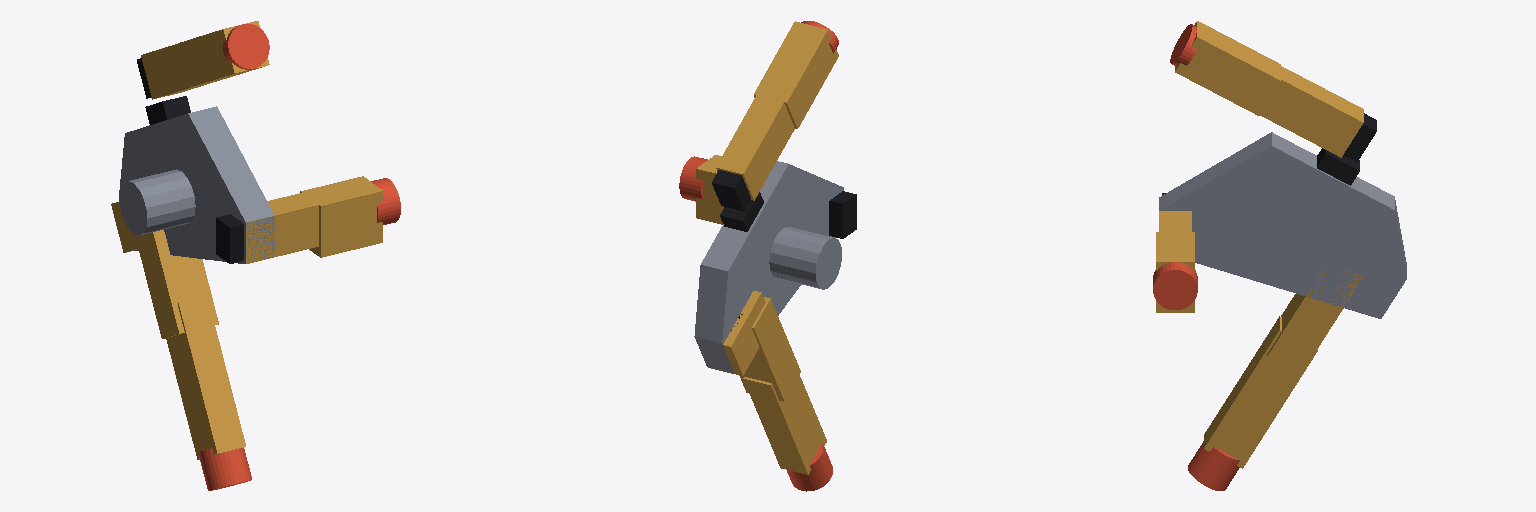
URDF robot description (g0072_c09):
<robot name="g0072_c09">
  <link name="palm">
    <visual name="palm_palm1">
      <origin xyz="0 0 0" rpy="0 0 0" />
      <geometry>
        <mesh filename="palm_palm1.obj" />
      </geometry>
      <material name="palm_palm1_mat">
        <color rgba="0.55 0.57 0.62 1" />
      </material>
    </visual>
    <collision>
      <origin xyz="0 0 0" rpy="0 0 0" />
      <geometry>
        <mesh filename="palm_palm1.obj" />
      </geometry>
    </collision>
    <visual name="palm_mount2">
      <origin xyz="0 0 0" rpy="0 0 0" />
      <geometry>
        <mesh filename="palm_mount2.obj" />
      </geometry>
      <material name="palm_mount2_mat">
        <color rgba="0.55 0.57 0.62 1" />
      </material>
    </visual>
    <collision>
      <origin xyz="0 0 0" rpy="0 0 0" />
      <geometry>
        <mesh filename="palm_mount2.obj" />
      </geometry>
    </collision>
    <visual name="palm_hinge3">
      <origin xyz="0 0.034910254 0.0404663337" rpy="-1.57079633 0.523598776 1.57079633" />
      <geometry>
        <box size="0.029 0.034 0.02" />
      </geometry>
      <material name="palm_hinge3_mat">
        <color rgba="0.15 0.15 0.17 1" />
      </material>
    </visual>
    <collision>
      <origin xyz="0 0.034910254 0.0404663337" rpy="-1.57079633 0.523598776 1.57079633" />
      <geometry>
        <box size="0.029 0.034 0.02" />
      </geometry>
    </collision>
    <visual name="palm_motor4">
      <origin xyz="-0.007 -0.08 4.5924255e-19" rpy="1.57079633 -1.57079633 0" />
      <geometry>
        <box size="0.029 0.034 0.02" />
      </geometry>
      <material name="palm_motor4_mat">
        <color rgba="0.15 0.15 0.17 1" />
      </material>
    </visual>
    <collision>
      <origin xyz="-0.007 -0.08 4.5924255e-19" rpy="1.57079633 -1.57079633 0" />
      <geometry>
        <box size="0.029 0.034 0.02" />
      </geometry>
    </collision>
    <visual name="palm_motor5">
      <origin xyz="-0.0045 0.0666996732 -0.0467548095" rpy="1.57079633 -0.523598776 -1.57079633" />
      <geometry>
        <box size="0.029 0.034 0.02" />
      </geometry>
      <material name="palm_motor5_mat">
        <color rgba="0.15 0.15 0.17 1" />
      </material>
    </visual>
    <collision>
      <origin xyz="-0.0045 0.0666996732 -0.0467548095" rpy="1.57079633 -0.523598776 -1.57079633" />
      <geometry>
        <box size="0.029 0.034 0.02" />
      </geometry>
    </collision>
    <inertial>
      <origin xyz="3.75973182e-19 0.00513127273 -0.00154413835" rpy="1.57079633 0.307406975 1.57079633" />
      <mass value="0.657098134" />
      <inertia ixx="0.000527012698" ixy="0" ixz="0" iyy="0.00151421306" iyz="0" izz="0.00197814433" />
    </inertial>
  </link>
  <link name="palm0">
    <visual name="palm0_palm1">
      <origin xyz="0 0 0" rpy="0 0 0" />
      <geometry>
        <mesh filename="palm0_palm1.obj" />
      </geometry>
      <material name="palm0_palm1_mat">
        <color rgba="0.55 0.57 0.62 1" />
      </material>
    </visual>
    <collision>
      <origin xyz="0 0 0" rpy="0 0 0" />
      <geometry>
        <mesh filename="palm0_palm1.obj" />
      </geometry>
    </collision>
    <visual name="palm0_motor2">
      <origin xyz="0 0.00783493649 0.0292884758" rpy="-1.57079633 -1.04719755 1.57079633" />
      <geometry>
        <box size="0.029 0.034 0.02" />
      </geometry>
      <material name="palm0_motor2_mat">
        <color rgba="0.15 0.15 0.17 1" />
      </material>
    </visual>
    <collision>
      <origin xyz="0 0.00783493649 0.0292884758" rpy="-1.57079633 -1.04719755 1.57079633" />
      <geometry>
        <box size="0.029 0.034 0.02" />
      </geometry>
    </collision>
    <inertial>
      <origin xyz="0 0.00730473992 0.0213286762" rpy="-1.57079633 0.592343675 1.57079633" />
      <mass value="0.11436556" />
      <inertia ixx="2.07719317e-05" ixy="0" ixz="0" iyy="5.43023684e-05" iyz="0" izz="6.40952064e-05" />
    </inertial>
  </link>
  <link name="f0_link0">
    <visual name="f0_link0_link1">
      <origin xyz="0.02875 0 0" rpy="0 -3.00807789e-49 0" />
      <geometry>
        <box size="0.0815 0.033 0.024" />
      </geometry>
      <material name="f0_link0_link1_mat">
        <color rgba="0.80 0.62 0.30 1" />
      </material>
    </visual>
    <collision>
      <origin xyz="0.02875 0 0" rpy="0 -3.00807789e-49 0" />
      <geometry>
        <box size="0.0815 0.033 0.024" />
      </geometry>
    </collision>
    <inertial>
      <origin xyz="0.02875 0 0" rpy="0 0 0" />
      <mass value="0.112959" />
      <inertia ixx="1.56730613e-05" ixy="0" ixz="0" iyy="6.79471918e-05" iyz="0" izz="7.27761891e-05" />
    </inertial>
  </link>
  <link name="f0_link1">
    <visual name="f0_link1_link1">
      <origin xyz="0.014 -0.004 0" rpy="0 -3.00807789e-49 0" />
      <geometry>
        <box size="0.052 0.041 0.029" />
      </geometry>
      <material name="f0_link1_link1_mat">
        <color rgba="0.80 0.62 0.30 1" />
      </material>
    </visual>
    <collision>
      <origin xyz="0.014 -0.004 0" rpy="0 -3.00807789e-49 0" />
      <geometry>
        <box size="0.052 0.041 0.029" />
      </geometry>
    </collision>
    <inertial>
      <origin xyz="0.014 -0.004 0" rpy="0 0 0" />
      <mass value="0.108199" />
      <inertia ixx="2.27398232e-05" ixy="0" ixz="0" iyy="3.19637879e-05" iyz="0" izz="3.95377179e-05" />
    </inertial>
  </link>
  <link name="f0_link2">
    <visual name="f0_link2_link1">
      <origin xyz="0.014 -1.54074396e-33 0" rpy="-1.57079633 -0 -1.57079633" />
      <geometry>
        <cylinder radius="0.0165" length="0.019" />
      </geometry>
      <material name="f0_link2_link1_mat">
        <color rgba="0.85 0.35 0.25 1" />
      </material>
    </visual>
    <collision>
      <origin xyz="0.014 -1.54074396e-33 0" rpy="-1.57079633 -0 -1.57079633" />
      <geometry>
        <cylinder radius="0.0165" length="0.019" />
      </geometry>
    </collision>
    <inertial>
      <origin xyz="0.014 0 0" rpy="0 0 0" />
      <mass value="0.0613676745" />
      <inertia ixx="7.45718278e-06" ixy="0" ixz="0" iyy="1.32201625e-05" iyz="0" izz="1.32201625e-05" />
    </inertial>
  </link>
  <link name="f1_link0">
    <visual name="f1_link0_link1">
      <origin xyz="-0.00625 0 -0.0165" rpy="0 4.06369831e-17 0" />
      <geometry>
        <box size="0.0365 0.029 0.053" />
      </geometry>
      <material name="f1_link0_link1_mat">
        <color rgba="0.80 0.62 0.30 1" />
      </material>
    </visual>
    <collision>
      <origin xyz="-0.00625 0 -0.0165" rpy="0 4.06369831e-17 0" />
      <geometry>
        <box size="0.0365 0.029 0.053" />
      </geometry>
    </collision>
    <inertial>
      <origin xyz="-0.00625 0 -0.0165" rpy="0 0 0" />
      <mass value="0.098175875" />
      <inertia ixx="2.98618286e-05" ixy="0" ixz="0" iyy="3.38809035e-05" iyz="0" izz="1.778006e-05" />
    </inertial>
  </link>
  <link name="f1_link1">
    <visual name="f1_link1_link1">
      <origin xyz="0.03375 0 6.9388939e-18" rpy="0 4.06369831e-17 0" />
      <geometry>
        <box size="0.0915 0.033 0.029" />
      </geometry>
      <material name="f1_link1_link1_mat">
        <color rgba="0.80 0.62 0.30 1" />
      </material>
    </visual>
    <collision>
      <origin xyz="0.03375 0 6.9388939e-18" rpy="0 4.06369831e-17 0" />
      <geometry>
        <box size="0.0915 0.033 0.029" />
      </geometry>
    </collision>
    <inertial>
      <origin xyz="0.03375 0 0" rpy="0 0 0" />
      <mass value="0.153239625" />
      <inertia ixx="2.46460397e-05" ixy="0" ixz="0" iyy="0.000117652915" iyz="0" izz="0.000120819867" />
    </inertial>
  </link>
  <link name="f1_link2">
    <visual name="f1_link2_link1">
      <origin xyz="0.04375 0 -6.9388939e-18" rpy="0 4.06369831e-17 0" />
      <geometry>
        <box size="0.1115 0.024 0.033" />
      </geometry>
      <material name="f1_link2_link1_mat">
        <color rgba="0.80 0.62 0.30 1" />
      </material>
    </visual>
    <collision>
      <origin xyz="0.04375 0 -6.9388939e-18" rpy="0 4.06369831e-17 0" />
      <geometry>
        <box size="0.1115 0.024 0.033" />
      </geometry>
    </collision>
    <inertial>
      <origin xyz="0.04375 0 0" rpy="0 0 0" />
      <mass value="0.154539" />
      <inertia ixx="2.14422863e-05" ixy="0" ixz="0" iyy="0.000174130038" iyz="0" izz="0.000167523496" />
    </inertial>
  </link>
  <link name="f1_link3">
    <visual name="f1_link3_link1">
      <origin xyz="0.019 0 -1.73472348e-17" rpy="-1.57079633 -0 -1.57079633" />
      <geometry>
        <cylinder radius="0.0165" length="0.029" />
      </geometry>
      <material name="f1_link3_link1_mat">
        <color rgba="0.85 0.35 0.25 1" />
      </material>
    </visual>
    <collision>
      <origin xyz="0.019 0 -1.73472348e-17" rpy="-1.57079633 -0 -1.57079633" />
      <geometry>
        <cylinder radius="0.0165" length="0.029" />
      </geometry>
    </collision>
    <inertial>
      <origin xyz="0.019 0 0" rpy="0 0 0" />
      <mass value="0.0763354" />
      <inertia ixx="9.49466441e-06" ixy="0" ixz="0" iyy="2.24143997e-05" iyz="0" izz="2.24143997e-05" />
    </inertial>
  </link>
  <link name="f2_link0">
    <visual name="f2_link0_link1">
      <origin xyz="0.03375 0 0" rpy="0 7.03853194e-17 0" />
      <geometry>
        <box size="0.0915 0.024 0.033" />
      </geometry>
      <material name="f2_link0_link1_mat">
        <color rgba="0.80 0.62 0.30 1" />
      </material>
    </visual>
    <collision>
      <origin xyz="0.03375 0 0" rpy="0 7.03853194e-17 0" />
      <geometry>
        <box size="0.0915 0.024 0.033" />
      </geometry>
    </collision>
    <inertial>
      <origin xyz="0.03375 0 0" rpy="0 0 0" />
      <mass value="0.126819" />
      <inertia ixx="1.75961363e-05" ixy="0" ixz="0" iyy="9.99888553e-05" iyz="0" izz="9.45673431e-05" />
    </inertial>
  </link>
  <link name="f2_link1">
    <visual name="f2_link1_link1">
      <origin xyz="0.02375 0 -1.38777878e-17" rpy="0 7.03853194e-17 0" />
      <geometry>
        <box size="0.0715 0.029 0.033" />
      </geometry>
      <material name="f2_link1_link1_mat">
        <color rgba="0.80 0.62 0.30 1" />
      </material>
    </visual>
    <collision>
      <origin xyz="0.02375 0 -1.38777878e-17" rpy="0 7.03853194e-17 0" />
      <geometry>
        <box size="0.0715 0.029 0.033" />
      </geometry>
    </collision>
    <inertial>
      <origin xyz="0.02375 0 0" rpy="0 0 0" />
      <mass value="0.119744625" />
      <inertia ixx="1.92589272e-05" ixy="0" ixz="0" iyy="6.18805296e-05" iyz="0" izz="5.94058074e-05" />
    </inertial>
  </link>
  <link name="f2_link2">
    <visual name="f2_link2_link1">
      <origin xyz="0.009 0 -1.38777878e-17" rpy="-1.57079633 -0 -1.57079633" />
      <geometry>
        <cylinder radius="0.0165" length="0.009" />
      </geometry>
      <material name="f2_link2_link1_mat">
        <color rgba="0.85 0.35 0.25 1" />
      </material>
    </visual>
    <collision>
      <origin xyz="0.009 0 -1.38777878e-17" rpy="-1.57079633 -0 -1.57079633" />
      <geometry>
        <cylinder radius="0.0165" length="0.009" />
      </geometry>
    </collision>
    <inertial>
      <origin xyz="0.009 0 0" rpy="0 0 0" />
      <mass value="0.046399949" />
      <inertia ixx="5.41970115e-06" ixy="0" ixz="0" iyy="7.09430898e-06" iyz="0" izz="7.09430898e-06" />
    </inertial>
  </link>
  <joint name="palm0_joint" type="revolute">
    <parent link="palm" />
    <child link="palm0" />
    <origin xyz="0 0.038660254 0.0469615242" rpy="0 0 0" />
    <axis xyz="0 0.866025404 -0.5" />
    <limit effort="0.5" lower="-0.523598776" upper="0.523598776" velocity="5" />
    <dynamics damping="0.0775033" friction="0" />
  </joint>
  <joint name="f0_j0" type="revolute">
    <parent link="palm" />
    <child link="f0_link0" />
    <origin xyz="0.0005 -0.08 0" rpy="1.57079633 6.123234e-17 7.49879891e-33" />
    <axis xyz="0 1 6.123234e-17" />
    <limit effort="0.5" lower="-0.523598776" upper="0.523598776" velocity="5" />
    <dynamics damping="0.0775033" friction="0" />
  </joint>
  <joint name="f0_j1" type="revolute">
    <parent link="f0_link0" />
    <child link="f0_link1" />
    <origin xyz="0.06 0 0" rpy="0 0 0" />
    <axis xyz="0 1 6.123234e-17" />
    <limit effort="0.5" lower="-0.523598776" upper="0.523598776" velocity="5" />
    <dynamics damping="0.0775033" friction="0" />
  </joint>
  <joint name="f0_j2" type="revolute">
    <parent link="f0_link1" />
    <child link="f0_link2" />
    <origin xyz="0.03 0 0" rpy="0 0 0" />
    <axis xyz="0 0 1" />
    <limit effort="0.5" lower="-0.523598776" upper="1.57079633" velocity="5" />
    <dynamics damping="0.0775033" friction="0" />
  </joint>
  <joint name="f1_j0" type="revolute">
    <parent link="palm" />
    <child link="f1_link0" />
    <origin xyz="-0.0045 0.04 -0.04" rpy="0 1.04719755 -1.57079633" />
    <axis xyz="0 0 1" />
    <limit effort="0.5" lower="-0.523598776" upper="1.57079633" velocity="5" />
    <dynamics damping="0.0775033" friction="0" />
  </joint>
  <joint name="f1_j1" type="revolute">
    <parent link="f1_link0" />
    <child link="f1_link1" />
    <origin xyz="0 0 0" rpy="0 0 0" />
    <axis xyz="0 1 6.123234e-17" />
    <limit effort="0.5" lower="-0.523598776" upper="0.523598776" velocity="5" />
    <dynamics damping="0.0775033" friction="0" />
  </joint>
  <joint name="f1_j2" type="revolute">
    <parent link="f1_link1" />
    <child link="f1_link2" />
    <origin xyz="0.07 0 0" rpy="0 0 0" />
    <axis xyz="0 0 1" />
    <limit effort="0.5" lower="-0.523598776" upper="1.57079633" velocity="5" />
    <dynamics damping="0.0775033" friction="0" />
  </joint>
  <joint name="f1_j3" type="revolute">
    <parent link="f1_link2" />
    <child link="f1_link3" />
    <origin xyz="0.09 0 0" rpy="0 0 0" />
    <axis xyz="0 0 1" />
    <limit effort="0.5" lower="-0.523598776" upper="1.57079633" velocity="5" />
    <dynamics damping="0.0775033" friction="0" />
  </joint>
  <joint name="f2_j0" type="revolute">
    <parent link="palm0" />
    <child link="f2_link0" />
    <origin xyz="0 0.00133974596 0.0330384758" rpy="-0 -0.523598776 -1.57079633" />
    <axis xyz="0 0 1" />
    <limit effort="0.5" lower="-0.523598776" upper="1.57079633" velocity="5" />
    <dynamics damping="0.0775033" friction="0" />
  </joint>
  <joint name="f2_j1" type="revolute">
    <parent link="f2_link0" />
    <child link="f2_link1" />
    <origin xyz="0.07 0 0" rpy="0 0 0" />
    <axis xyz="0 0 1" />
    <limit effort="0.5" lower="-0.523598776" upper="1.57079633" velocity="5" />
    <dynamics damping="0.0775033" friction="0" />
  </joint>
  <joint name="f2_j2" type="revolute">
    <parent link="f2_link1" />
    <child link="f2_link2" />
    <origin xyz="0.05 0 0" rpy="0 0 0" />
    <axis xyz="-0 -1 -6.123234e-17" />
    <limit effort="0.5" lower="-0.523598776" upper="0.523598776" velocity="5" />
    <dynamics damping="0.0775033" friction="0" />
  </joint>
</robot>

--- Facts derived from the render (not from the file) ---
Views: 3 orthographic renders of the robot side by side, from view 1: azimuth 30°, elevation 25°; view 2: azimuth 150°, elevation 25°; view 3: azimuth 270°, elevation 25°.
Model g0072_c09 with 12 links and 11 joints (11 revolute), rooted at palm, posed all joints at 0.
Visible links, largest first — view 1: palm, f1_link2, f1_link1, f0_link1, f0_link0, f2_link1, f2_link0, f1_link3, f2_link2, f0_link2, f1_link0; view 2: palm, f2_link1, f1_link2, f2_link0, f1_link1, f1_link0, f0_link1, palm0, f1_link3, f0_link2; view 3: palm, f1_link2, f2_link0, f2_link1, f1_link1, f0_link2, f1_link3, f0_link1, f0_link0, palm0, f2_link2.
Link boxes in pixels (box(x1,y1,x2,y2)): palm: box(119, 96, 274, 263); f1_link2: box(166, 296, 245, 459); f1_link1: box(135, 230, 218, 338); f0_link1: box(300, 176, 382, 257); f0_link0: box(246, 187, 335, 263); f2_link1: box(180, 21, 269, 86); f2_link0: box(141, 43, 219, 99); f1_link3: box(198, 448, 251, 490); f2_link2: box(223, 24, 269, 69); f0_link2: box(371, 178, 400, 224); f1_link0: box(111, 201, 137, 252); palm: box(694, 161, 856, 373); f2_link1: box(754, 21, 838, 128); f1_link2: box(743, 375, 826, 474); f2_link0: box(716, 74, 795, 200); f1_link1: box(739, 297, 800, 401); f1_link0: box(711, 291, 765, 375); f0_link1: box(696, 155, 723, 224); palm0: box(712, 170, 750, 210); f1_link3: box(787, 443, 832, 491); f0_link2: box(679, 156, 707, 201); palm: box(1159, 132, 1406, 318); f1_link2: box(1204, 316, 1317, 468); f2_link0: box(1256, 53, 1363, 157); f2_link1: box(1175, 21, 1280, 115); f1_link1: box(1267, 262, 1362, 373); f0_link2: box(1153, 262, 1197, 309); f1_link3: box(1188, 441, 1239, 490); f0_link1: box(1156, 232, 1194, 312); f0_link0: box(1159, 211, 1191, 242); palm0: box(1344, 113, 1376, 161); f2_link2: box(1170, 24, 1196, 65).
Size in the robot's own frame: 0.166 by 0.187 by 0.3769 metres.
2 mesh visuals loaded from 3 distinct referenced files (2 OBJ); not drawn: 1 (reference not matched to a file when rendering).
